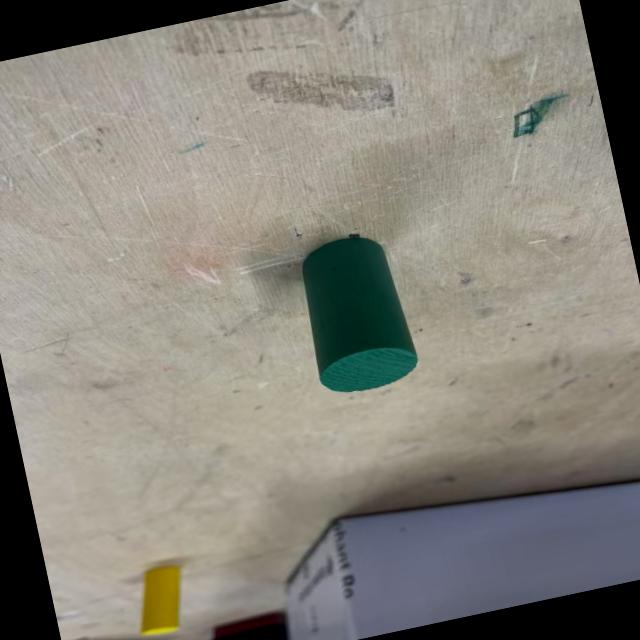green_cylinder: (288, 227, 422, 400)
